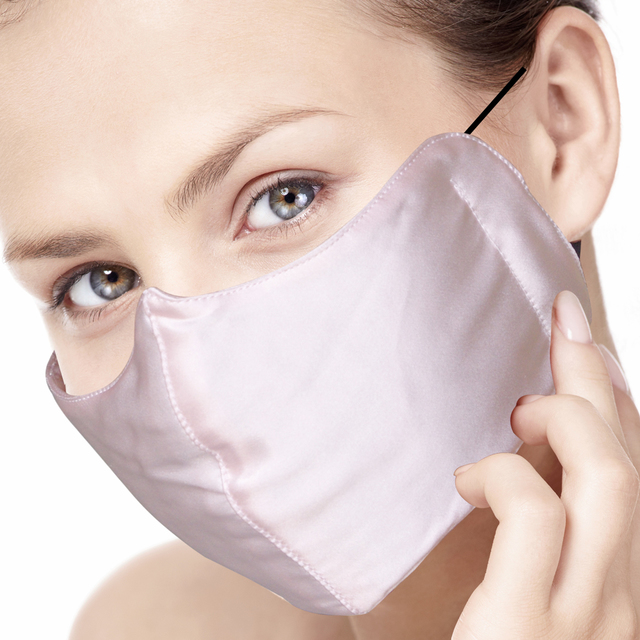mask: (49, 305, 598, 597)
